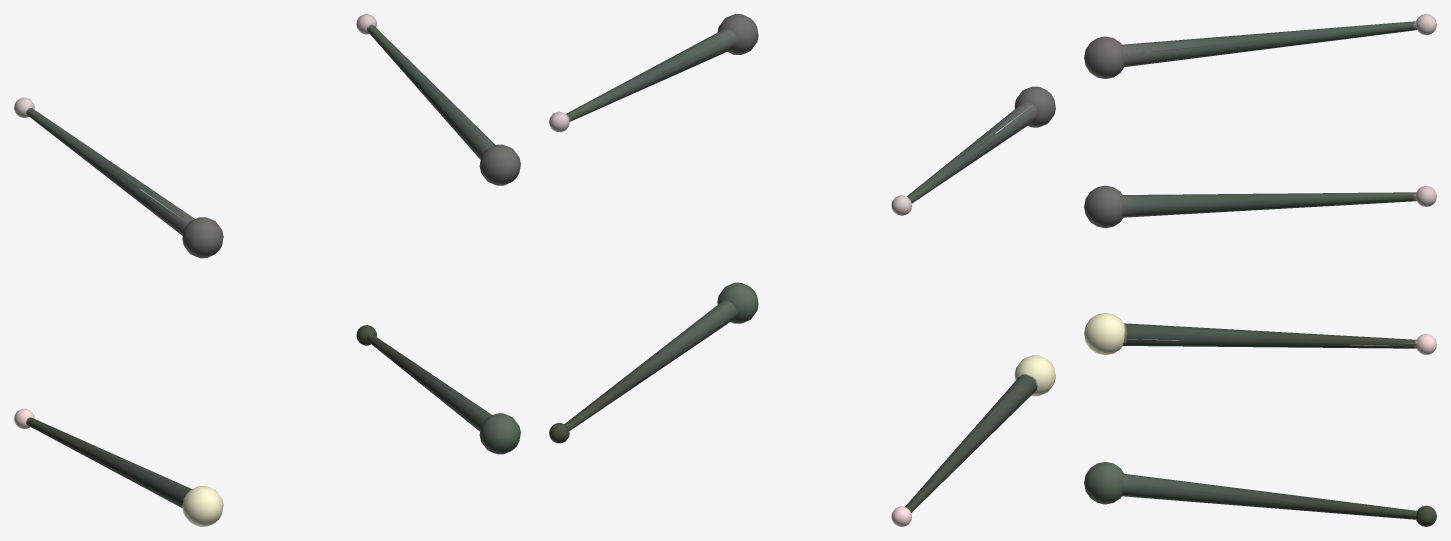
The model's file is SM_Antennes_Proue.glb.
3 views of the same model, side by side, from view 1: azimuth 30°, elevation 25°; view 2: azimuth 150°, elevation 25°; view 3: azimuth 270°, elevation 25° (orthographic). The views are drawn at different scales.
Size of the model in its own units: 2 by 1.75 by 1.65.
1 material, 1 textured.
